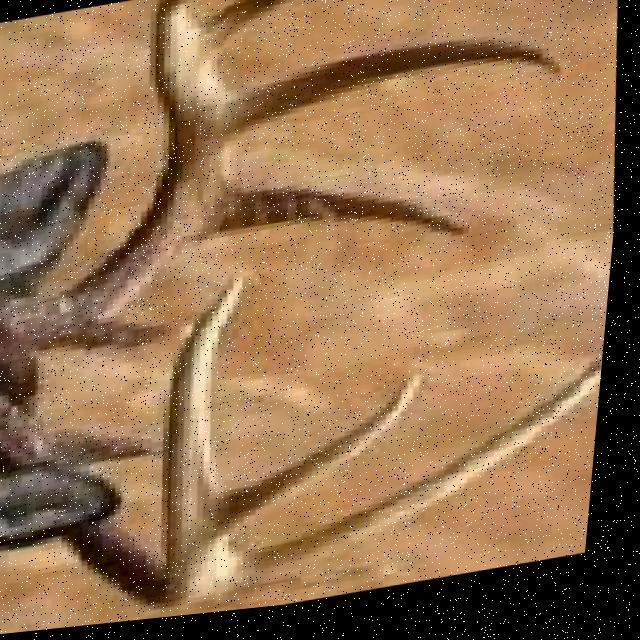L-G1: (54, 429, 166, 467)
L-G3: (212, 366, 610, 605)
L-G4: (218, 379, 432, 544)
R-F: (0, 0, 228, 352)
R-G1: (69, 321, 189, 353)
R-G2: (198, 191, 476, 246)
R-G3: (231, 47, 570, 145)
R-G4: (201, 0, 300, 59)
